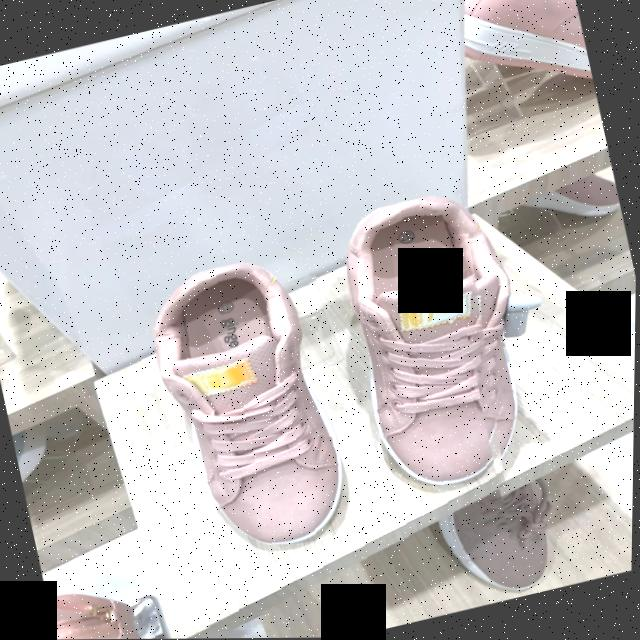shoe: (154, 263, 513, 613), (344, 196, 511, 504)
